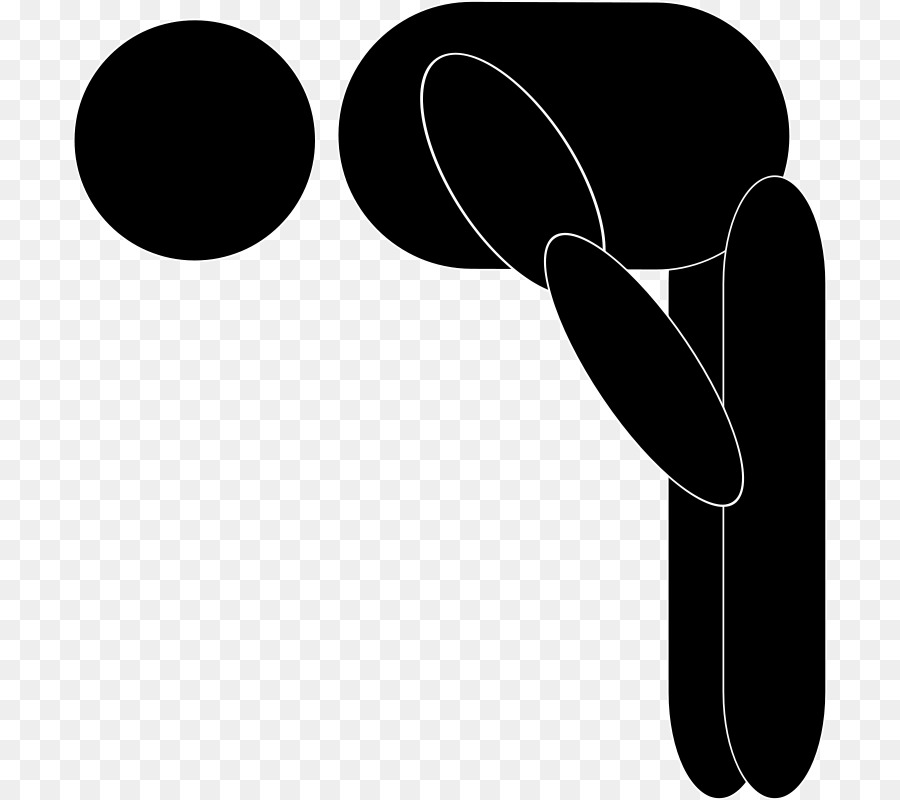ruku: (15, 9, 887, 796)
